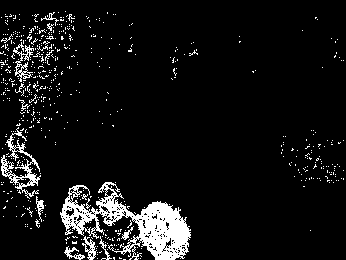person: (1, 128, 49, 229), (60, 180, 100, 259), (101, 180, 139, 260)
